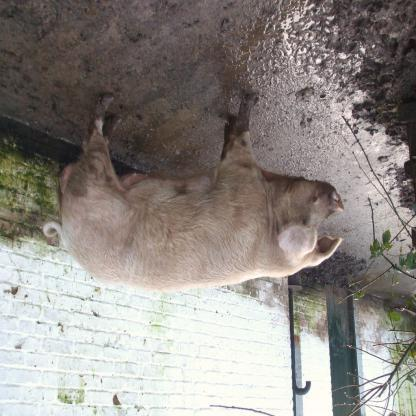boar: (44, 91, 344, 293)
